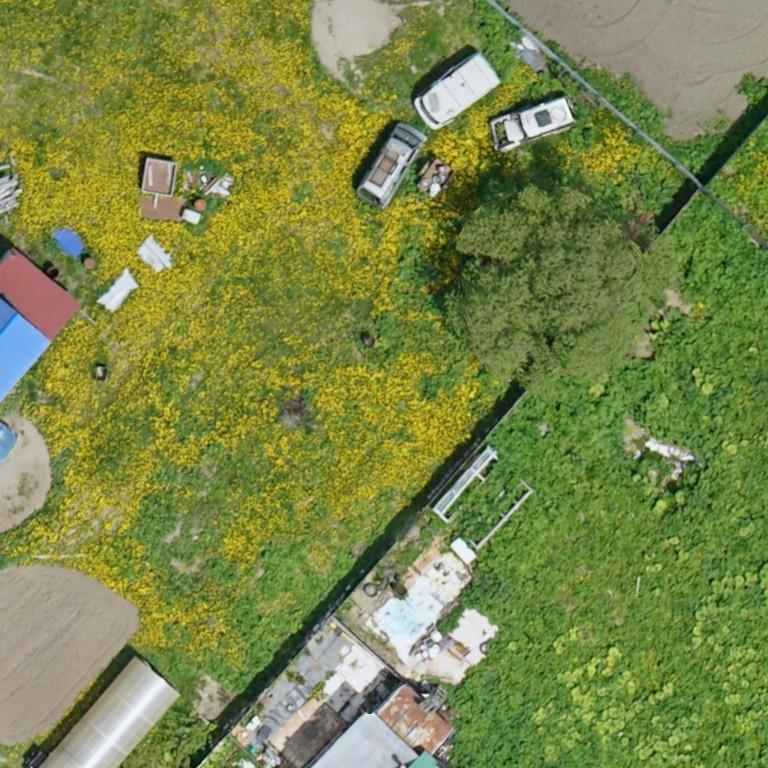hogweed: (449, 640, 606, 767), (489, 377, 621, 494), (611, 318, 728, 449), (697, 195, 767, 304), (448, 586, 566, 637)
